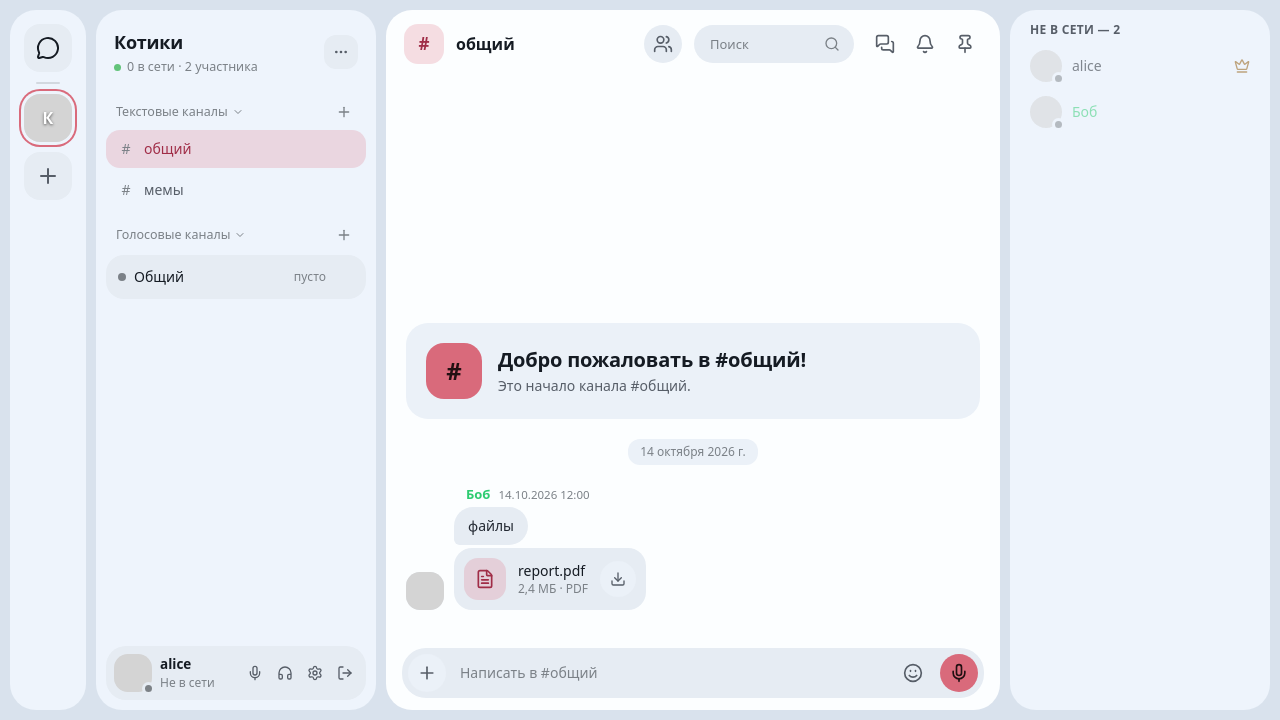
Test: attachments in messages › in the desktop, shows how far a file got and can stop it
Click the link "report.pdf 2,4 МБ · PDF" at {"x": 550, "y": 579}, box [454,548,646,610]
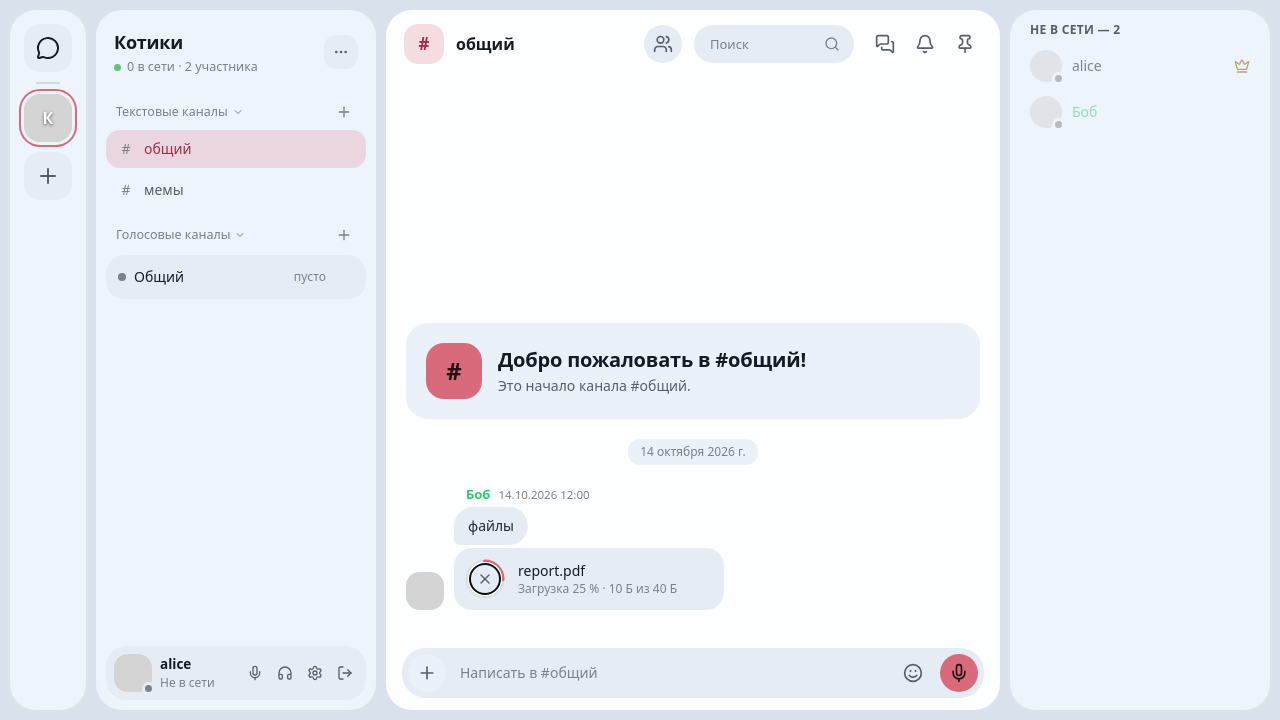
Check: the text "Загрузка 25 % · 10 Б из 40 Б" is shown, box [518,580,677,597]
Press Enter
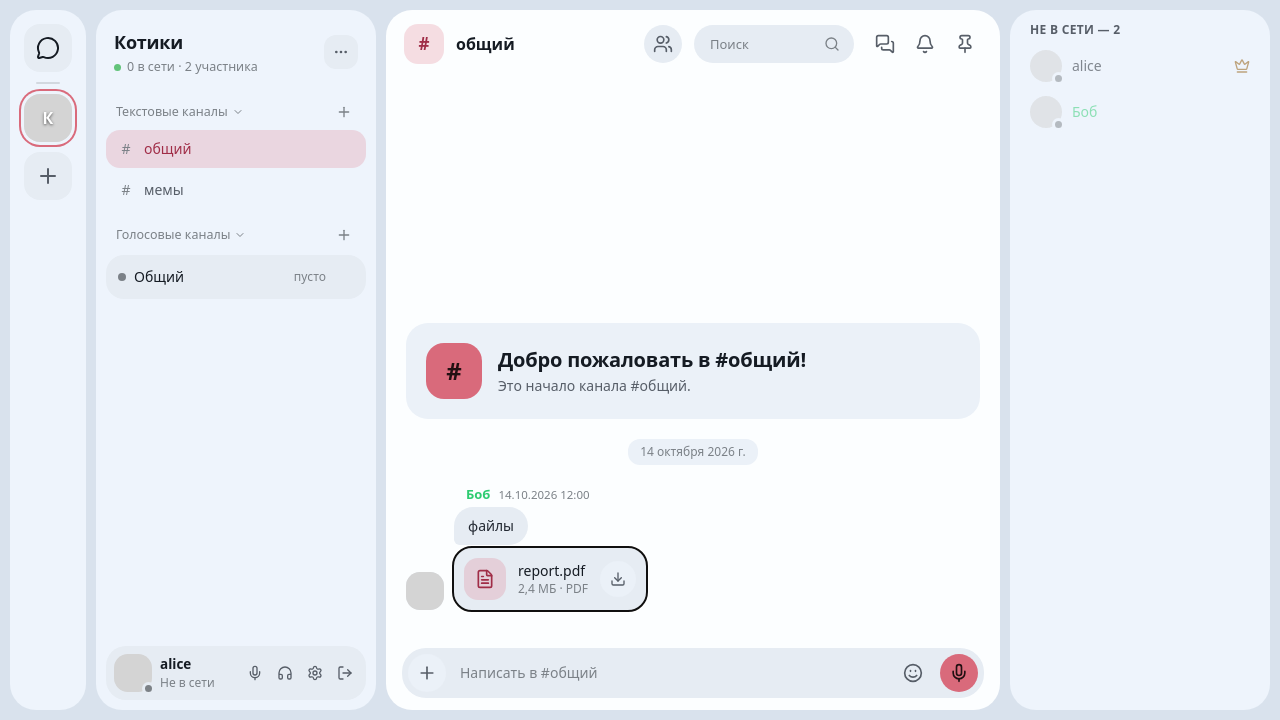
Check: the progress indicator is gone
